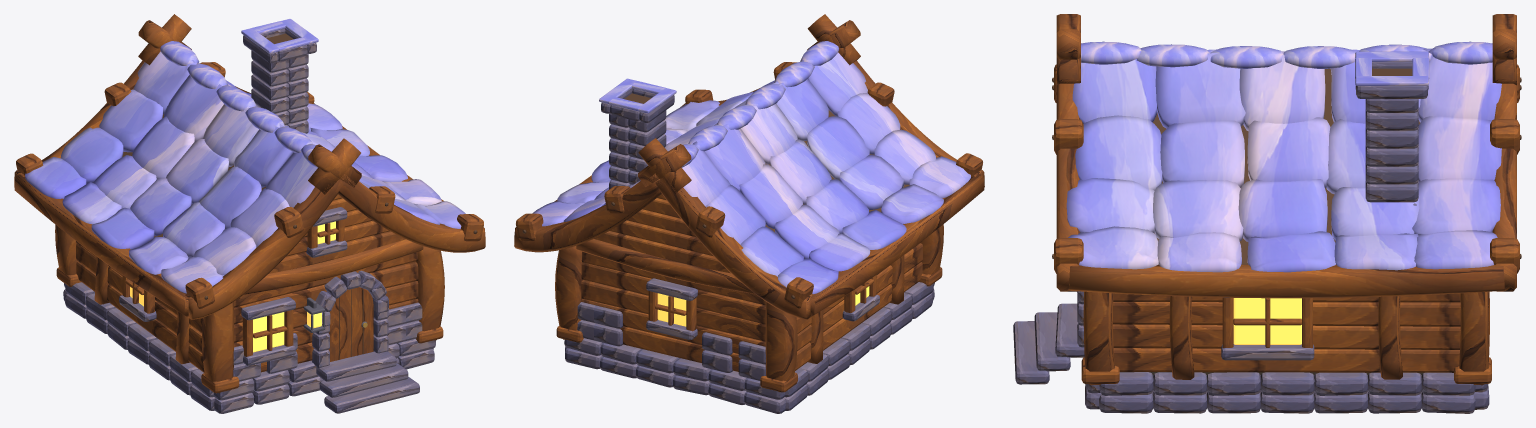
The model's file is starter_lodge.glb.
3 views of the same model, side by side, from view 1: azimuth 30°, elevation 25°; view 2: azimuth 150°, elevation 25°; view 3: azimuth 270°, elevation 25° (orthographic). The views are drawn at different scales.
Visible parts, largest first — view 1: Curved massive bargeboard.002, Sagged long eave timber, Curved massive bargeboard.003, Bowed facade header.001, Closed squat arched door, Large irregular curved snow blanket.007, Large irregular curved snow blanket.005, Large irregular curved snow blanket.001, Large irregular curved snow blanket.006, Large irregular curved snow blanket.010, Bowed stout corner post.001, Large irregular curved snow blanket.008 (+69 smaller); view 2: Curved massive bargeboard, Sagged long eave timber, Curved massive bargeboard.001, Bowed facade header, Broad front/back timber plank.002, Broad front/back timber plank.003, Large irregular curved snow blanket.008, Large irregular curved snow blanket.006, Bowed stout corner post, Large irregular curved snow blanket.013, Large irregular curved snow blanket.007, Large irregular curved snow blanket.001 (+73 smaller); view 3: Sagged long eave timber.001, Broad side timber plank.005, Large irregular curved snow blanket.029, Broad side timber plank.006, Broad side timber plank.007, Large irregular curved snow blanket.023, Large irregular curved snow blanket.028, Large irregular curved snow blanket.027, Large irregular curved snow blanket.032, Large irregular curved snow blanket.025, Large irregular curved snow blanket.022, Large irregular curved snow blanket.033 (+66 smaller).
Part boxes in pixels (box(x1,y1,x2,y2)): Curved massive bargeboard.002: box(185, 179, 344, 319); Sagged long eave timber: box(14, 174, 188, 316); Curved massive bargeboard.003: box(335, 174, 485, 252); Bowed facade header.001: box(244, 239, 423, 294); Closed squat arched door: box(328, 287, 373, 361); Large irregular curved snow blanket.007: box(166, 139, 228, 204); Large irregular curved snow blanket.005: box(99, 89, 162, 152); Large irregular curved snow blanket.001: box(164, 75, 223, 141); Large irregular curved snow blanket.006: box(132, 116, 194, 178); Large irregular curved snow blanket.010: box(61, 127, 123, 183); Bowed stout corner post.001: box(201, 302, 233, 393); Large irregular curved snow blanket.008: box(199, 166, 261, 228); Curved massive bargeboard: box(655, 176, 813, 319); Sagged long eave timber: box(810, 174, 984, 315); Curved massive bargeboard.001: box(514, 173, 661, 252); Bowed facade header: box(576, 239, 755, 294); Broad front/back timber plank.002: box(581, 280, 765, 341); Broad front/back timber plank.003: box(581, 262, 765, 324); Large irregular curved snow blanket.008: box(807, 116, 869, 180); Large irregular curved snow blanket.006: box(739, 164, 802, 228); Bowed stout corner post: box(765, 301, 797, 392); Large irregular curved snow blanket.013: box(839, 155, 904, 209); Large irregular curved snow blanket.007: box(770, 139, 831, 204); Large irregular curved snow blanket.001: box(704, 124, 765, 191); Sagged long eave timber.001: box(1068, 264, 1504, 298); Broad side timber plank.005: box(1113, 348, 1459, 372); Large irregular curved snow blanket.029: box(1075, 115, 1162, 190); Broad side timber plank.006: box(1113, 324, 1460, 349); Broad side timber plank.007: box(1113, 302, 1460, 326); Large irregular curved snow blanket.023: box(1155, 53, 1245, 128); Large irregular curved snow blanket.028: box(1160, 120, 1244, 187); Large irregular curved snow blanket.027: box(1247, 117, 1330, 187); Large irregular curved snow blanket.032: box(1238, 179, 1327, 241); Large irregular curved snow blanket.025: box(1418, 116, 1501, 181); Large irregular curved snow blanket.022: box(1239, 55, 1325, 131); Large irregular curved snow blanket.033: box(1153, 180, 1243, 241).
Size of the model in its own units: 6.58 by 5.26 by 7.48.
9 materials, 4 textured.
